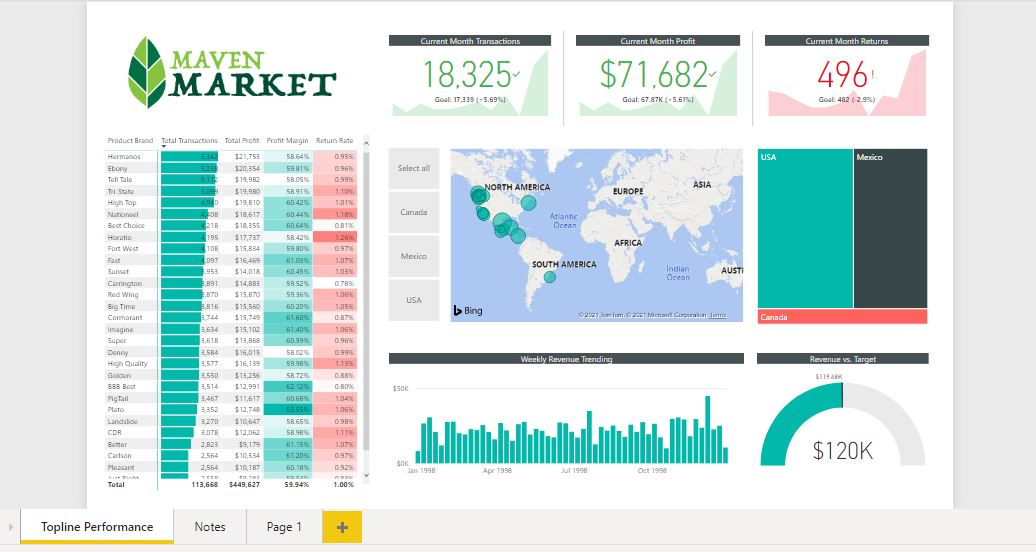

The dashboard page shown, as its layout file describes it:
{"tool":"powerbi","page":{"name":"Topline Performance","canvas":[1280,720],"ordinal":0},"visuals":[{"type":"image","box":[40,7.5,346.6,132.7],"z":0},{"type":"pivotTable","fields":{"Values":["Transaction_Data.Total Transactions","Transaction_Data.Total Profit","Transaction_Data.Profit Margin","Return_Data.Return Rate"],"Rows":["Products.product_brand"]},"box":[20.6,161.3,401.5,536],"z":1000},{"type":"kpi","title":"Current Month Transactions","fields":{"TrendLine":["Calendar.Start of Month"],"Goal":["Transaction_Data.Last Month Transactions"],"Indicator":["Transaction_Data.Total Transactions"]},"box":[445.9,19,240.2,124.7],"z":2000},{"type":"kpi","title":"Current Month Profit","fields":{"TrendLine":["Calendar.Start of Month"],"Goal":["Transaction_Data.Last Month Profit"],"Indicator":["Transaction_Data.Total Profit"]},"box":[723.3,19,242.5,124.7],"z":3000},{"type":"kpi","title":"Current Month Returns","fields":{"TrendLine":["Calendar.Start of Month"],"Goal":["Return_Data.Last Month Returns"],"Indicator":["Return_Data.Total Returns"]},"box":[1003,19,242.5,124.7],"z":4000},{"type":"map","fields":{"Category":["Stores.store_city"],"Size":["Transaction_Data.Total Transactions"]},"box":[532.8,182.5,442.7,266.5],"z":5000},{"type":"slicer","fields":{"Values":["Stores.store_country"]},"box":[420.5,178.9,124.7,270],"z":6000},{"type":"columnChart","title":"Weekly Revenue Trending","fields":{"Category":["Calendar.Start of Week"],"Y":["Transaction_Data.Total Revenue"]},"box":[445.9,490,525.3,192.2],"z":7000},{"type":"gauge","title":"Revenue vs. Target","fields":{"Y":["Transaction_Data.Total Revenue"],"TargetValue":["Transaction_Data.Revenue Target"]},"box":[991.1,490,254.4,171.6],"z":8000},{"type":"basicShape","box":[671.7,2.9,67.5,161.3],"z":9000},{"type":"basicShape","box":[950.3,2.9,67.5,161.3],"z":10000},{"type":"treemap","fields":{"Group":["Stores.store_country","Stores.store_state","Stores.store_city"],"Values":["Transaction_Data.Total Transactions"]},"box":[985.8,181.4,261.9,270],"z":11000}]}

Visuals, with their boxes on the page's 1280x720 design canvas (x1, y1, x2, y2). These are canvas units, not pixel positions in the 1036x552 screenshot, which may show the page scaled, cropped or inside an application window:
image: region(40, 8, 387, 140)
pivotTable - Transaction_Data.Total Transactions x Transaction_Data.Total Profit: region(21, 161, 422, 697)
"Current Month Transactions" kpi: region(446, 19, 686, 144)
"Current Month Profit" kpi: region(723, 19, 966, 144)
"Current Month Returns" kpi: region(1003, 19, 1246, 144)
map - Stores.store_city x Transaction_Data.Total Transactions: region(533, 182, 976, 449)
slicer - Stores.store_country: region(420, 179, 545, 449)
"Weekly Revenue Trending" columnChart: region(446, 490, 971, 682)
"Revenue vs. Target" gauge: region(991, 490, 1246, 662)
basicShape: region(672, 3, 739, 164)
basicShape: region(950, 3, 1018, 164)
treemap - Stores.store_country x Stores.store_state: region(986, 181, 1248, 451)
